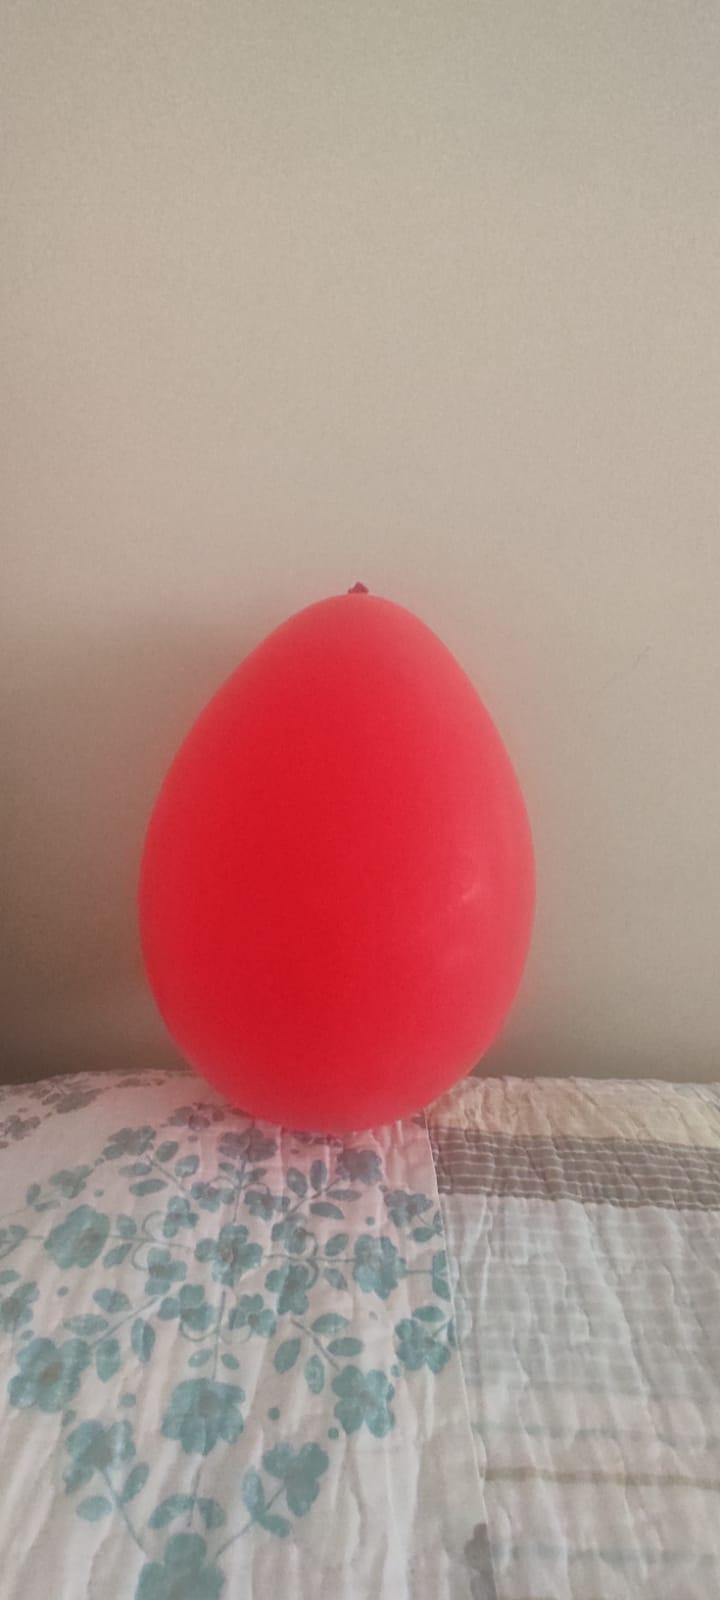red: (134, 570, 546, 1145)
